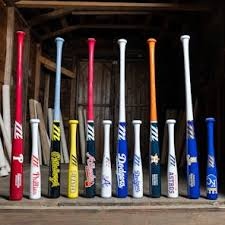baseball bat: (179, 34, 201, 199), (47, 34, 65, 198), (145, 37, 163, 198), (114, 37, 130, 198), (10, 29, 24, 201), (83, 36, 97, 198), (200, 114, 221, 201), (162, 117, 181, 198), (128, 118, 145, 198), (28, 117, 44, 201), (66, 119, 80, 199), (100, 118, 113, 199)
